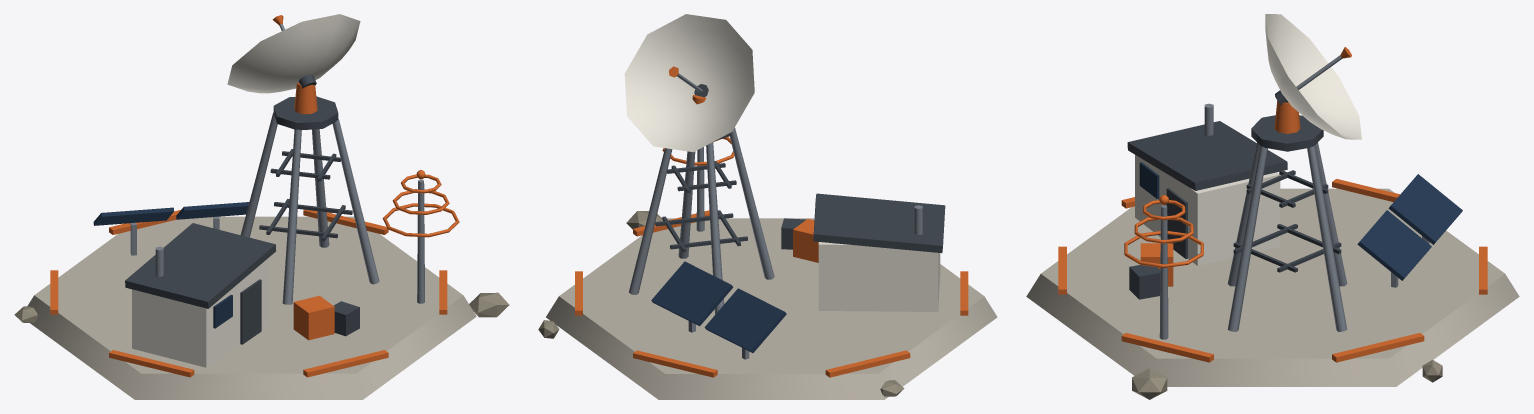
The model's file is relay-station.glb.
3 views of the same model, side by side, from view 1: azimuth 30°, elevation 25°; view 2: azimuth 150°, elevation 25°; view 3: azimuth 270°, elevation 25° (orthographic). The views are drawn at different scales.
Parts seen in each view (by area): view 1: pad, hut_roof, hut_body, tower, dish, crate_a, tower_platform, hut_door, solar_panel_0, solar_panel_1, mast_pole, pad_stripe_2 (+7 smaller); view 2: pad, dish, hut_body, tower, hut_roof, solar_panel_1, solar_panel_0, crate_a, pad_stripe_3, pad_stripe_4, mast_pole, crate_b (+1 smaller); view 3: pad, tower, hut_body, dish, hut_roof, solar_panel_0, solar_panel_1, tower_platform, mast_pole, crate_b, pad_stripe_0, pad_stripe_5 (+10 smaller).
Part boxes in pixels (x1=…): pad: x1=27, y1=216, x2=476, y2=399; hut_roof: x1=125, y1=223, x2=276, y2=308; hut_body: x1=132, y1=257, x2=269, y2=367; tower: x1=240, y1=112, x2=379, y2=304; dish: x1=227, y1=14, x2=360, y2=93; crate_a: x1=293, y1=295, x2=334, y2=340; tower_platform: x1=273, y1=96, x2=338, y2=130; hut_door: x1=240, y1=279, x2=261, y2=344; solar_panel_0: x1=93, y1=207, x2=174, y2=225; solar_panel_1: x1=176, y1=202, x2=249, y2=219; mast_pole: x1=417, y1=179, x2=424, y2=303; pad_stripe_2: x1=109, y1=350, x2=194, y2=377; pad: x1=546, y1=218, x2=997, y2=399; dish: x1=624, y1=14, x2=754, y2=152; hut_body: x1=818, y1=242, x2=940, y2=311; tower: x1=629, y1=127, x2=774, y2=314; hut_roof: x1=813, y1=193, x2=945, y2=253; solar_panel_1: x1=651, y1=261, x2=733, y2=326; solar_panel_0: x1=704, y1=288, x2=786, y2=352; crate_a: x1=793, y1=219, x2=818, y2=262; pad_stripe_3: x1=825, y1=350, x2=910, y2=377; pad_stripe_4: x1=633, y1=350, x2=717, y2=377; mast_pole: x1=696, y1=147, x2=704, y2=231; crate_b: x1=781, y1=218, x2=806, y2=249; pad: x1=1026, y1=188, x2=1519, y2=386; tower: x1=1227, y1=142, x2=1347, y2=331; hut_body: x1=1135, y1=155, x2=1280, y2=265; dish: x1=1265, y1=14, x2=1361, y2=139; hut_roof: x1=1127, y1=121, x2=1287, y2=190; solar_panel_0: x1=1388, y1=174, x2=1462, y2=244; solar_panel_1: x1=1357, y1=210, x2=1431, y2=280; tower_platform: x1=1251, y1=115, x2=1323, y2=151; mast_pole: x1=1159, y1=205, x2=1168, y2=339; crate_b: x1=1129, y1=265, x2=1160, y2=299; pad_stripe_0: x1=1121, y1=333, x2=1213, y2=362; pad_stripe_5: x1=1332, y1=333, x2=1424, y2=362.
Size of the model in its own units: 6.53 by 4.75 by 6.8.
